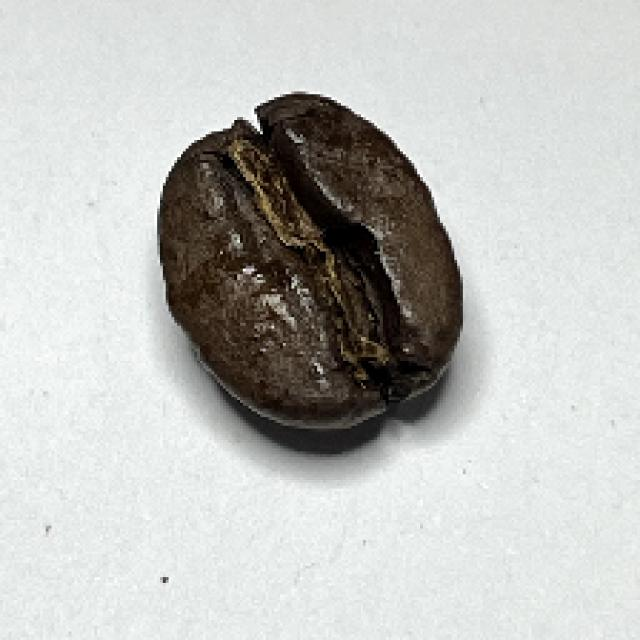bean: (155, 89, 468, 430)
